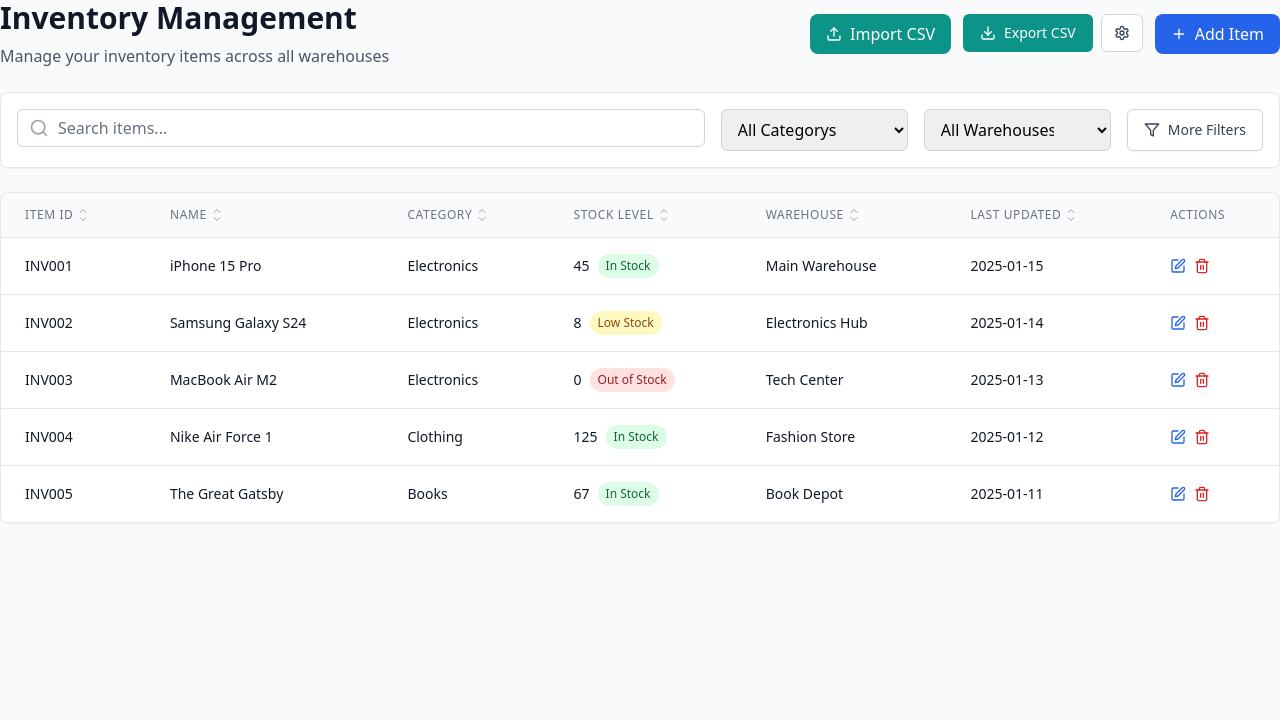
Scenario: InventoryList Component - Basic Tests › opens modal when Add Item button clicked
Click the button "Add Item": (1217, 34) [1155, 14, 1279, 54]
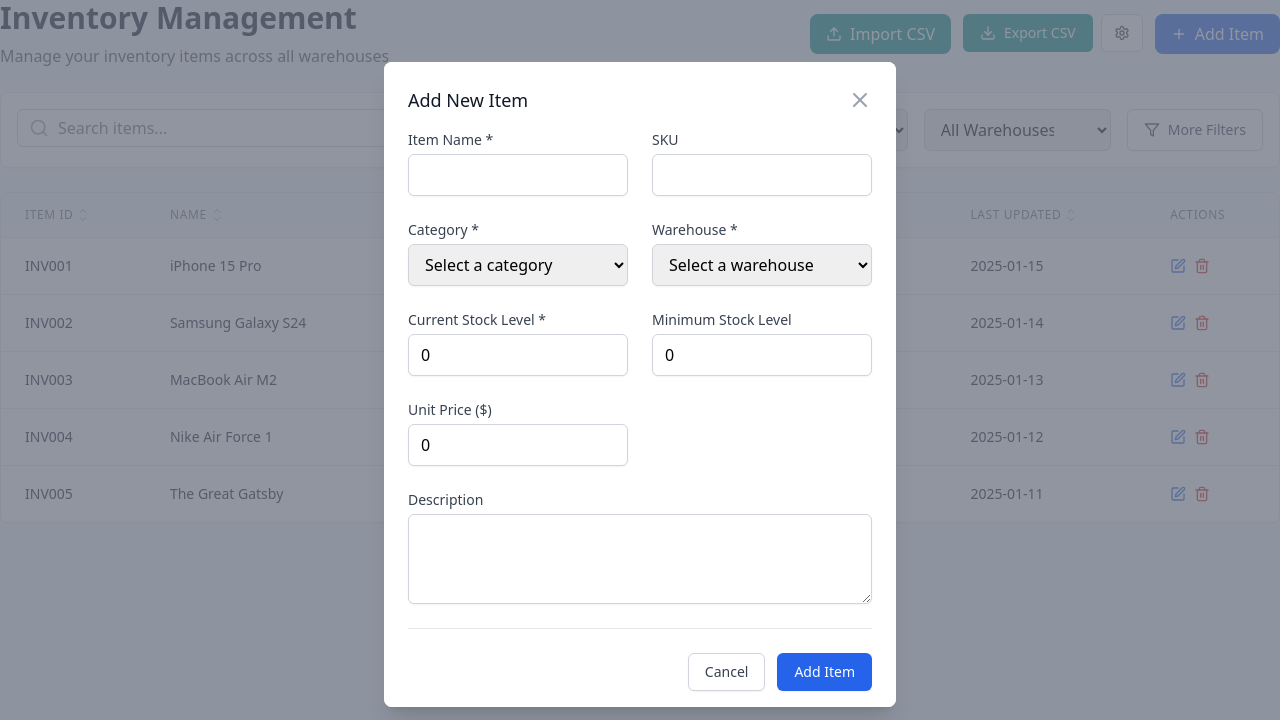
Check: the heading "Add New Item" is shown, box [408, 86, 528, 114]
